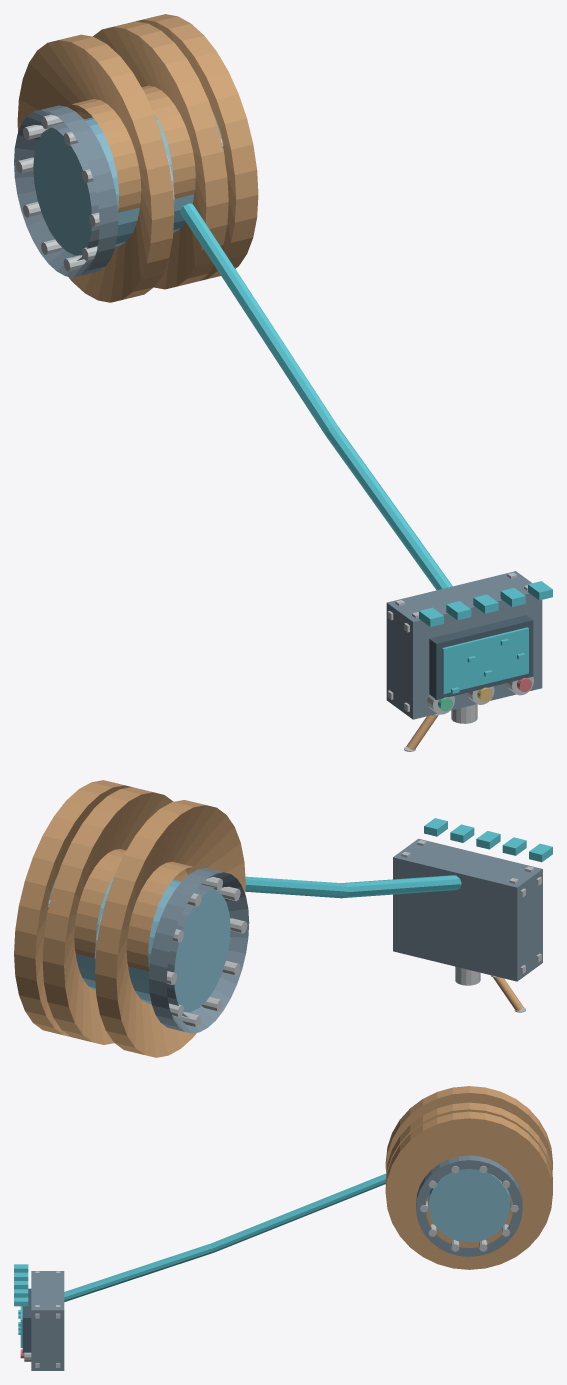
File: 17_L75_PrimaryBeamCurrentMonitor.glb
3 views of the same model, one above another, from view 1: azimuth 30°, elevation 25°; view 2: azimuth 150°, elevation 25°; view 3: azimuth 270°, elevation 25° (orthographic). The views are drawn at different scales.
Parts seen in each view (by area): view 1: PrimaryBeamCurrentMonitor_Node_0025, PrimaryBeamCurrentMonitor_Node_0026, PrimaryBeamCurrentMonitor_Node_0028, PrimaryBeamCurrentMonitor_Node_0027, PrimaryBeamCurrentMonitor_Node_0000, PrimaryBeamCurrentMonitor_Node_0001, PrimaryBeamCurrentMonitor_Node_0059, PrimaryBeamCurrentMonitor_Node_0038, PrimaryBeamCurrentMonitor_Node_0060, PrimaryBeamCurrentMonitor_Node_0037; view 2: PrimaryBeamCurrentMonitor_Node_0025, PrimaryBeamCurrentMonitor_Node_0028, PrimaryBeamCurrentMonitor_Node_0026, PrimaryBeamCurrentMonitor_Node_0027, PrimaryBeamCurrentMonitor_Node_0000, PrimaryBeamCurrentMonitor_Node_0001, PrimaryBeamCurrentMonitor_Node_0060, PrimaryBeamCurrentMonitor_Node_0059, PrimaryBeamCurrentMonitor_Node_0050, PrimaryBeamCurrentMonitor_Node_0051; view 3: PrimaryBeamCurrentMonitor_Node_0027, PrimaryBeamCurrentMonitor_Node_0000, PrimaryBeamCurrentMonitor_Node_0028, PrimaryBeamCurrentMonitor_Node_0012, PrimaryBeamCurrentMonitor_Node_0025, PrimaryBeamCurrentMonitor_Node_0059, PrimaryBeamCurrentMonitor_Node_0026, PrimaryBeamCurrentMonitor_Node_0060, PrimaryBeamCurrentMonitor_Node_0037.
Boxes of the visible parts, x1,y1,x2,y2 form: PrimaryBeamCurrentMonitor_Node_0025: (17,34,174,302); PrimaryBeamCurrentMonitor_Node_0026: (77,21,228,289); PrimaryBeamCurrentMonitor_Node_0028: (386,571,542,719); PrimaryBeamCurrentMonitor_Node_0027: (136,14,258,280); PrimaryBeamCurrentMonitor_Node_0000: (33,114,194,255); PrimaryBeamCurrentMonitor_Node_0001: (14,105,118,277); PrimaryBeamCurrentMonitor_Node_0059: (180,203,338,435); PrimaryBeamCurrentMonitor_Node_0038: (442,627,528,694); PrimaryBeamCurrentMonitor_Node_0060: (326,426,452,590); PrimaryBeamCurrentMonitor_Node_0037: (429,615,533,699); PrimaryBeamCurrentMonitor_Node_0025: (95,800,245,1057); PrimaryBeamCurrentMonitor_Node_0028: (393,838,542,981); PrimaryBeamCurrentMonitor_Node_0026: (42,787,187,1044); PrimaryBeamCurrentMonitor_Node_0027: (14,780,131,1036); PrimaryBeamCurrentMonitor_Node_0000: (76,876,230,1012); PrimaryBeamCurrentMonitor_Node_0001: (148,868,249,1033); PrimaryBeamCurrentMonitor_Node_0060: (342,875,461,898); PrimaryBeamCurrentMonitor_Node_0059: (245,876,347,898); PrimaryBeamCurrentMonitor_Node_0050: (455,966,480,985); PrimaryBeamCurrentMonitor_Node_0051: (493,977,523,1010); PrimaryBeamCurrentMonitor_Node_0027: (385,1111,552,1269); PrimaryBeamCurrentMonitor_Node_0000: (428,1169,510,1242); PrimaryBeamCurrentMonitor_Node_0028: (31,1271,64,1370); PrimaryBeamCurrentMonitor_Node_0012: (416,1155,522,1256); PrimaryBeamCurrentMonitor_Node_0025: (385,1086,552,1172); PrimaryBeamCurrentMonitor_Node_0059: (209,1173,386,1252); PrimaryBeamCurrentMonitor_Node_0026: (385,1102,552,1203); PrimaryBeamCurrentMonitor_Node_0060: (64,1244,212,1301); PrimaryBeamCurrentMonitor_Node_0037: (22,1288,31,1353).
Bounding box in the file's own units: 0.615 × 1.74 × 3.03.
